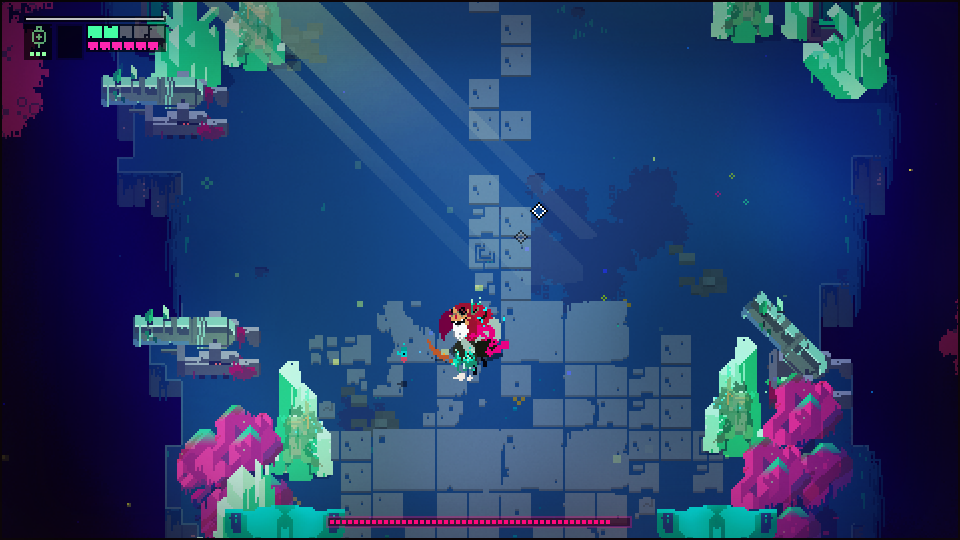hanged_man: (435, 304, 511, 372)
